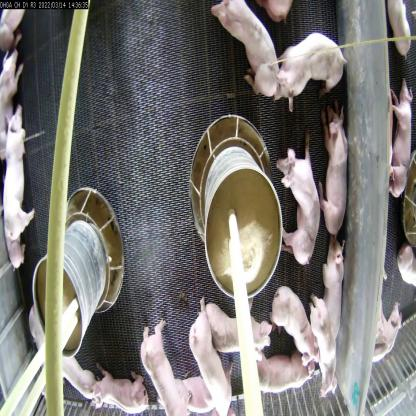Pig: (272, 126, 325, 268), (209, 0, 280, 102), (276, 24, 347, 109), (140, 306, 192, 416), (188, 300, 238, 414), (200, 296, 275, 364), (267, 275, 319, 372), (4, 101, 40, 239), (320, 98, 350, 243), (386, 71, 416, 201), (88, 351, 153, 410), (307, 289, 342, 394), (0, 44, 29, 156), (322, 223, 344, 346), (374, 284, 403, 364)
